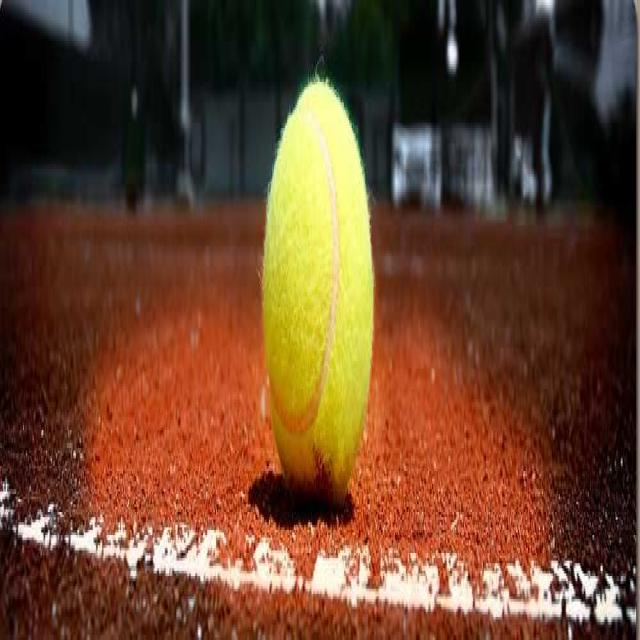Tennis_Ball: (255, 74, 375, 480)
